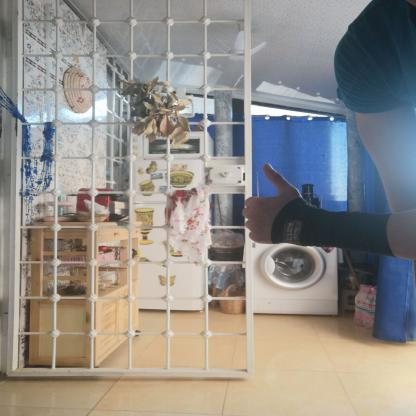ALIF: (228, 154, 315, 251)
